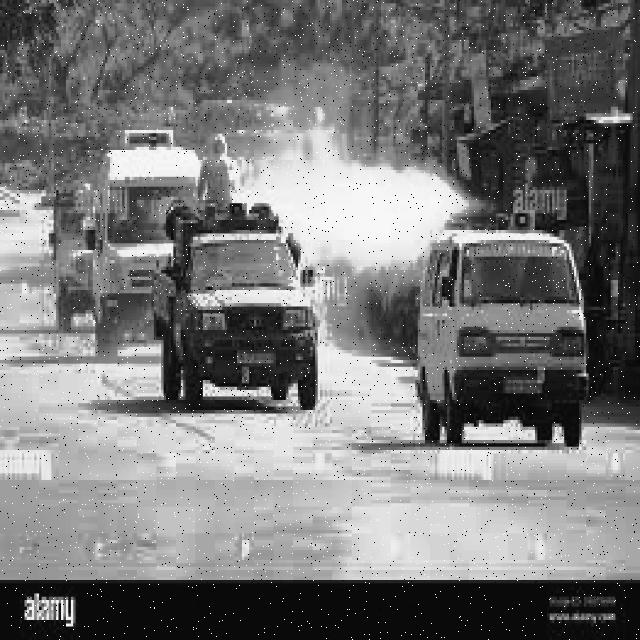Ambulance: (414, 205, 590, 458)
